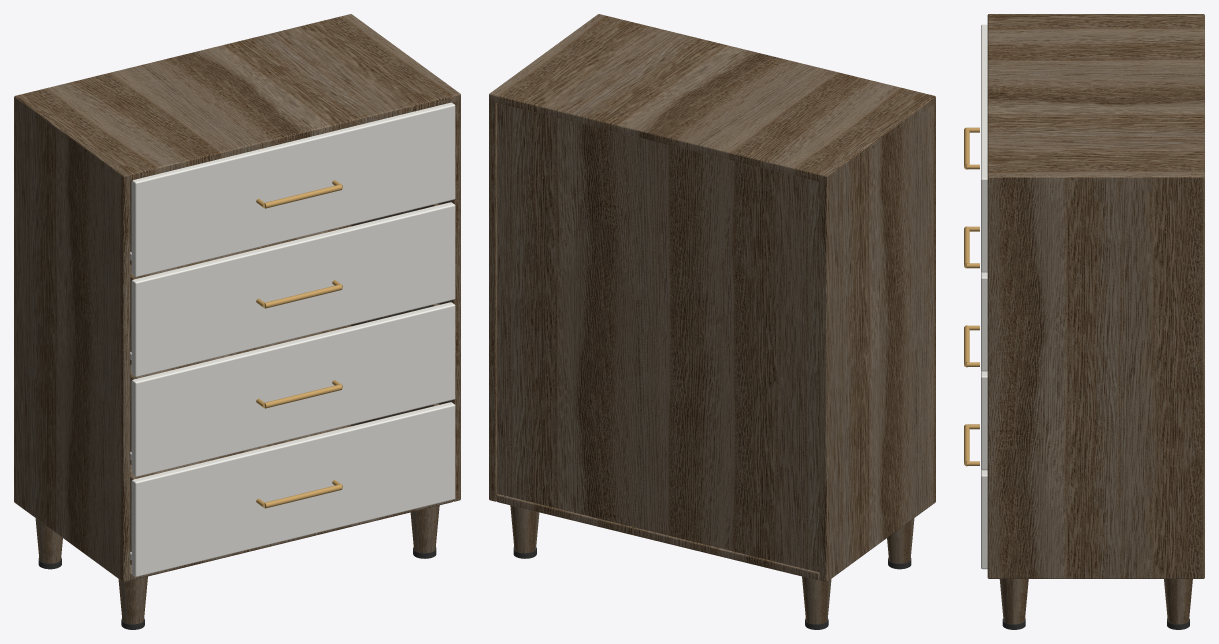
Rendered from detail-chest.glb.
3 views of the same model, side by side, from view 1: azimuth 30°, elevation 25°; view 2: azimuth 150°, elevation 25°; view 3: azimuth 270°, elevation 25° (orthographic).
Visible parts, largest first — view 1: 左侧板, 顶板, 抽屉独立面板, 抽屉独立面板.001, 抽屉独立面板.002, 抽屉独立面板.003, 右侧板, 收分柜脚, 收分柜脚.002, 底板, 收分柜脚.001; view 2: 嵌入式背板, 左侧板, 顶板, 右侧板, 底板, 收分柜脚.001, 收分柜脚.003, 收分柜脚; view 3: 右侧板, 顶板, 抽屉独立面板.003, 收分柜脚.003, 收分柜脚.002, 抽屉独立面板, 抽屉独立面板.001, 抽屉独立面板.002.
Part boxes in pixels (x1,y1,x2,y2): 左侧板: [14, 98, 130, 582]; 顶板: [14, 14, 460, 182]; 抽屉独立面板: [131, 402, 455, 576]; 抽屉独立面板.001: [131, 302, 455, 476]; 抽屉独立面板.002: [131, 202, 455, 376]; 抽屉独立面板.003: [131, 102, 455, 277]; 右侧板: [438, 94, 460, 501]; 收分柜脚: [118, 576, 147, 624]; 收分柜脚.002: [410, 505, 439, 553]; 底板: [130, 469, 453, 580]; 收分柜脚.001: [35, 518, 62, 563]; 嵌入式背板: [497, 103, 819, 572]; 左侧板: [819, 98, 935, 582]; 顶板: [489, 14, 935, 182]; 右侧板: [489, 94, 497, 501]; 底板: [496, 494, 819, 580]; 收分柜脚.001: [802, 576, 831, 624]; 收分柜脚.003: [510, 505, 539, 553]; 收分柜脚: [887, 518, 914, 563]; 右侧板: [987, 174, 1204, 578]; 顶板: [987, 14, 1204, 183]; 抽屉独立面板.003: [981, 24, 987, 272]; 收分柜脚.003: [1164, 579, 1192, 624]; 收分柜脚.002: [999, 579, 1028, 624]; 抽屉独立面板: [981, 470, 987, 569]; 抽屉独立面板.001: [981, 371, 987, 470]; 抽屉独立面板.002: [981, 272, 987, 371].
Size of the model in its own units: 0.8 by 1.05 by 0.499.
5 materials, 1 textured.
